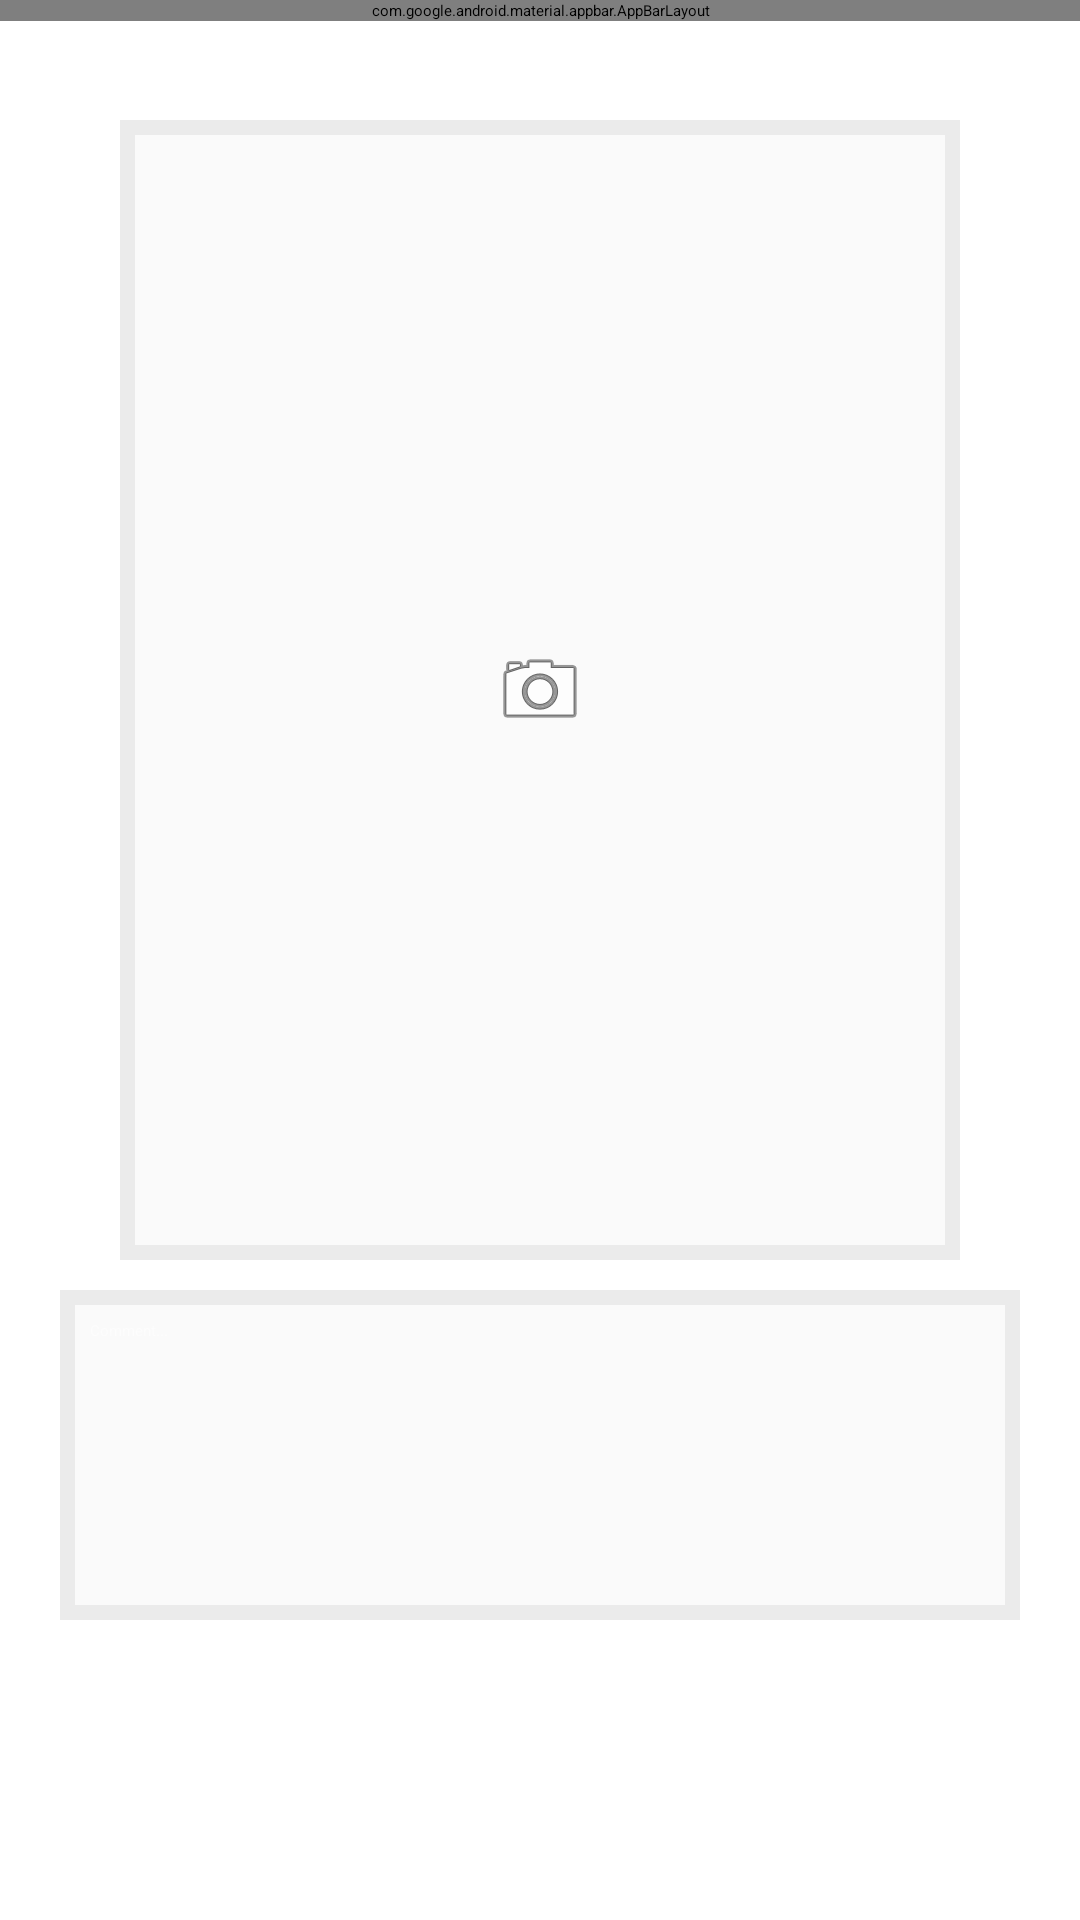

Icons on this 1080 × 1920 Android screen, each with its box as (x1, y1, x2, y2):
camera: (503, 659, 577, 718)
